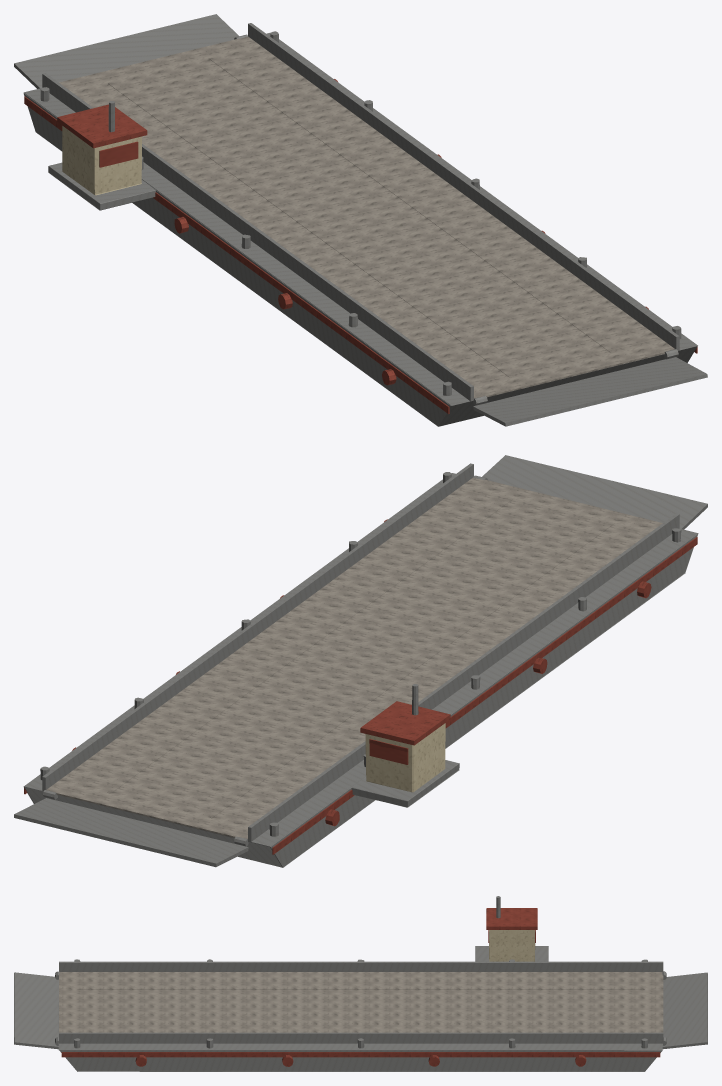
The model's file is cargo_barge.glb.
The picture shows the model from 3 angles, top to bottom: view 1: azimuth 30°, elevation 25°; view 2: azimuth 150°, elevation 25°; view 3: azimuth 270°, elevation 25°; orthographic projection. The views are drawn at different scales.
Parts seen in each view (by area): view 1: CargoBarge, Ramp, Ramp2; view 2: CargoBarge, Ramp2, Ramp; view 3: CargoBarge, Ramp2, Ramp.
Part boxes in pixels (left/top/right/bottom): CargoBarge: left=23, top=23, right=697, bottom=426; Ramp: left=14, top=14, right=238, bottom=88; Ramp2: left=473, top=357, right=707, bottom=426; CargoBarge: left=23, top=463, right=698, bottom=867; Ramp2: left=482, top=455, right=707, bottom=529; Ramp: left=14, top=798, right=248, bottom=867; CargoBarge: left=55, top=896, right=666, bottom=1071; Ramp2: left=14, top=972, right=58, bottom=1049; Ramp: left=662, top=972, right=707, bottom=1049.
Bounding box in the file's own units: 7.75 × 2.71 × 21.22.
4 materials, 4 textured.
